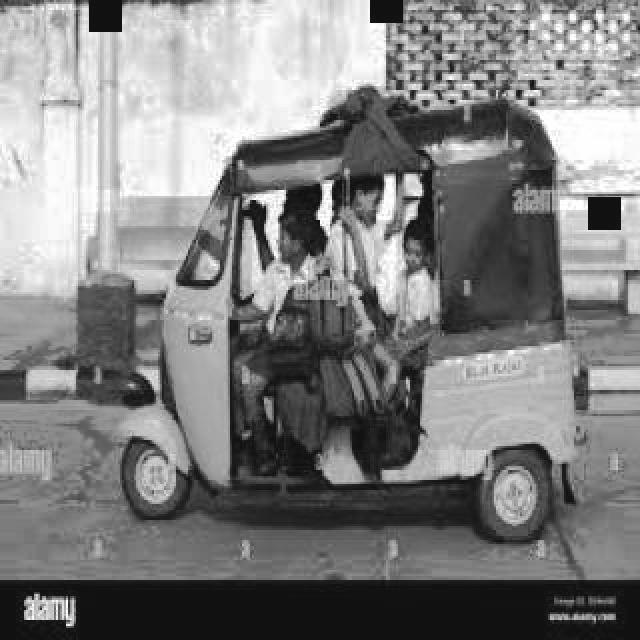Auto-Rickshaw: (102, 118, 598, 550)
